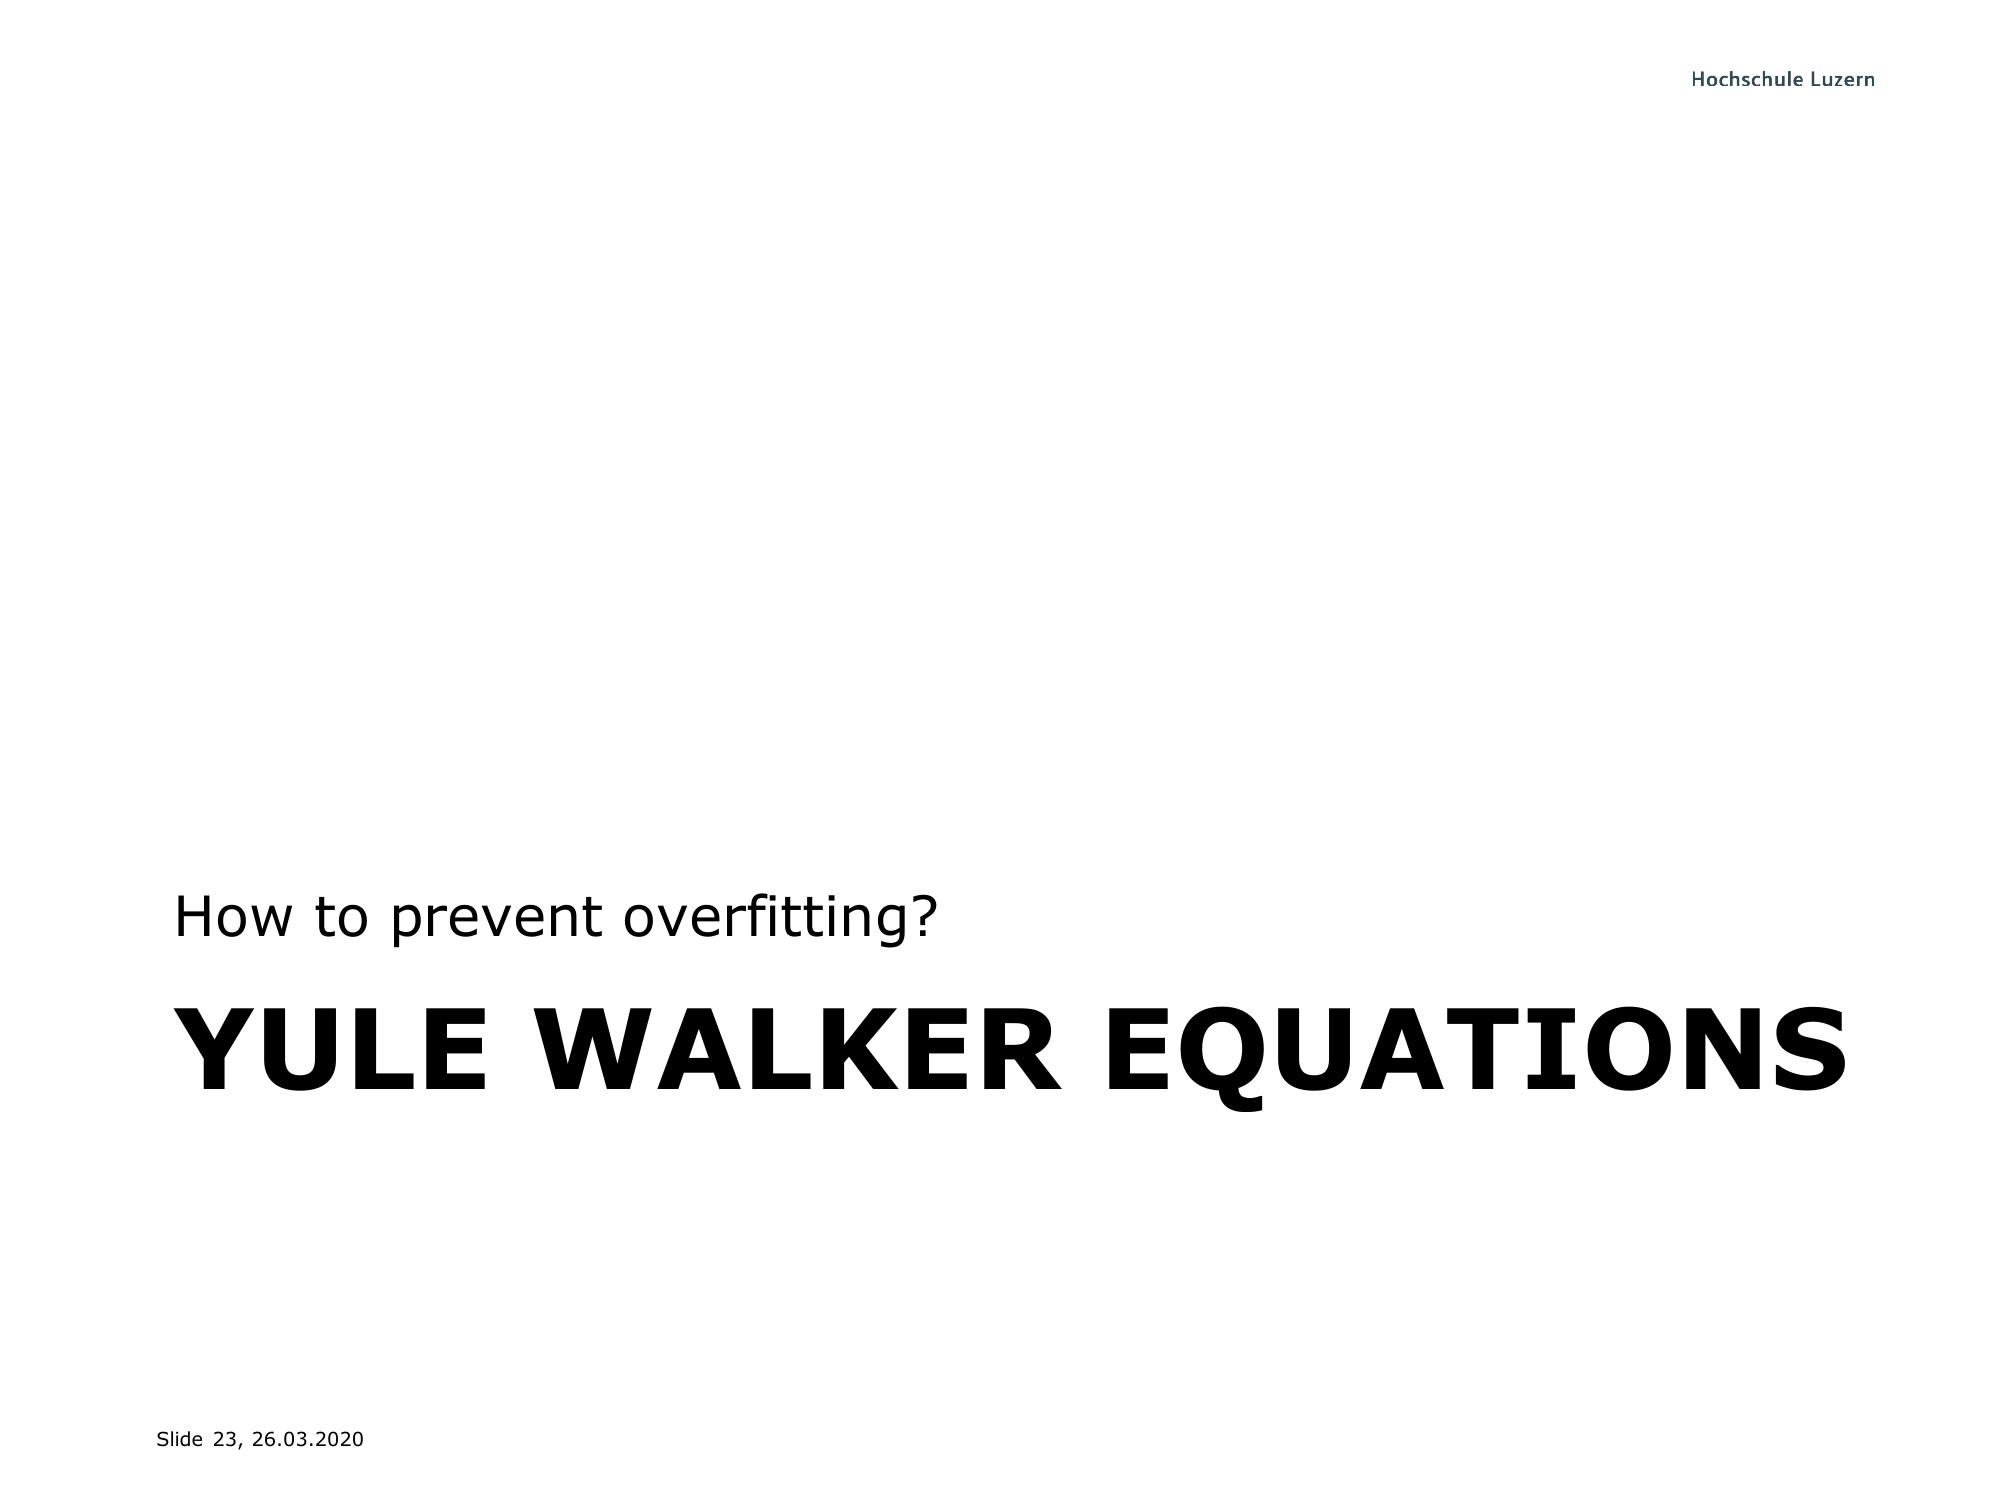Title: (139, 985, 1869, 1119)
